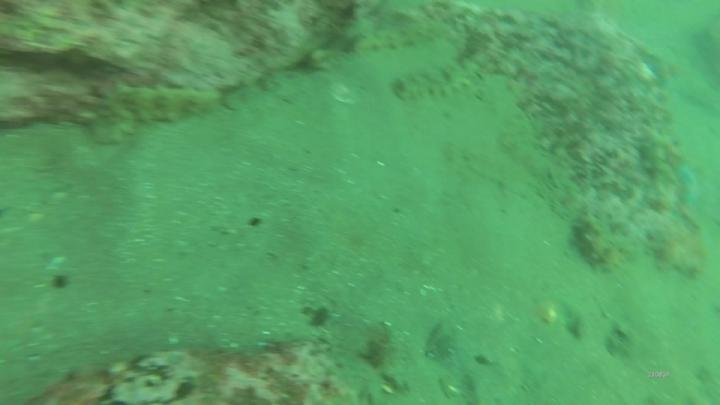holothurian: (82, 82, 225, 130), (397, 51, 493, 100), (351, 22, 447, 56)
